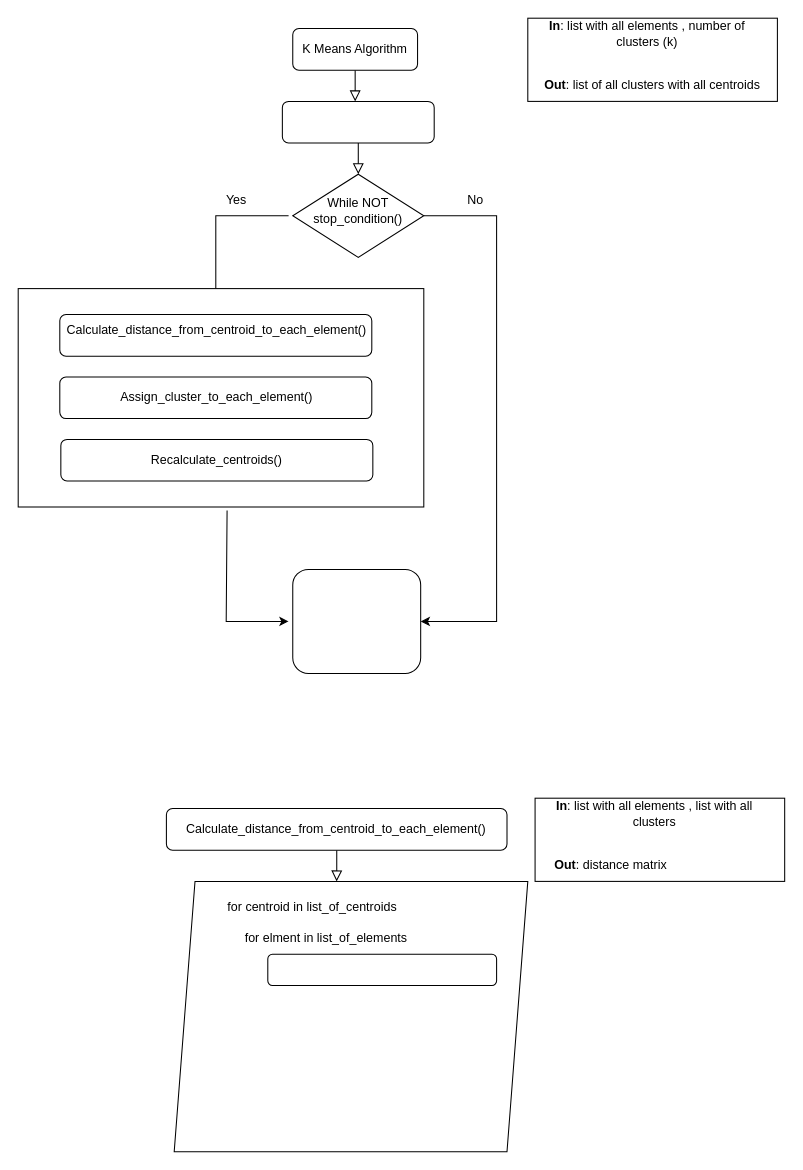
Some shapes in this 803 by 1170 pixel diagram are drawn without their labels. Here are the shapes that lost their labels. From the top down, the centre of each, then its label:
point 357,121: Generate_k_centroids()
point 356,620: Return list with all clusters and centroids
point 382,969: Calculate_distance(element, centroid)
